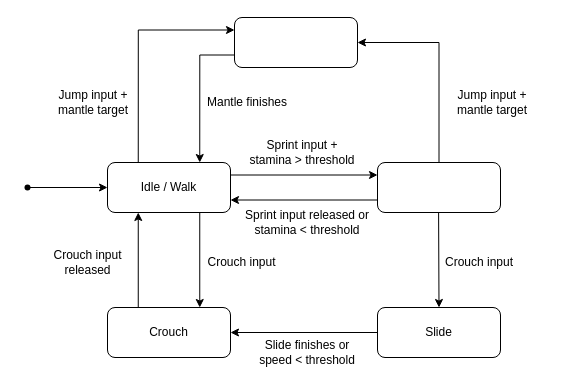
Image size: 579x385. Some labels were removed from this diagram. The shapes that lost their labels are listed below. From the top down, each one's centre as x and y in pixels, then its label:
At pixel 296 42: "Mantle / Vault".
At pixel 438 187: "Sprint".
